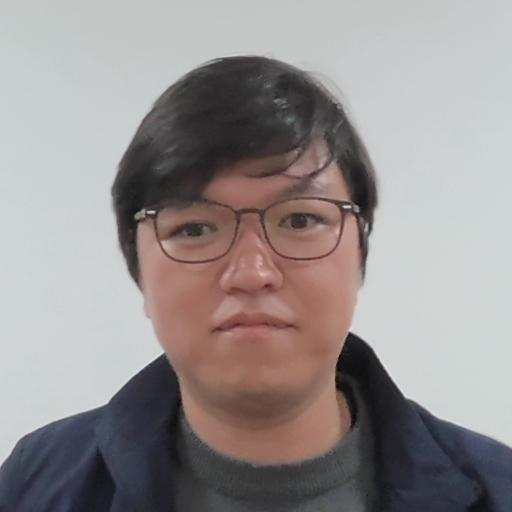no_glasses: (103, 54, 389, 402)
